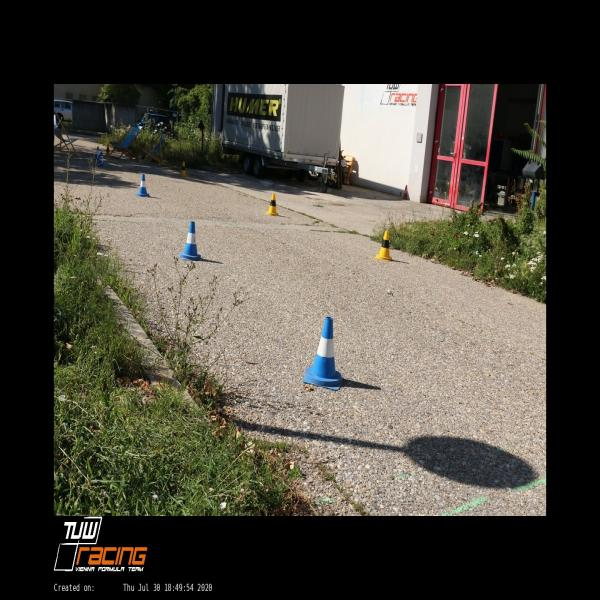blue_cone: (302, 318, 344, 390), (179, 222, 201, 260), (136, 174, 150, 196), (97, 151, 106, 168), (93, 146, 102, 161)
orange_cone: (401, 184, 407, 200)
yellow_cone: (374, 231, 393, 262), (266, 193, 278, 216), (179, 161, 187, 177), (104, 144, 111, 158)
